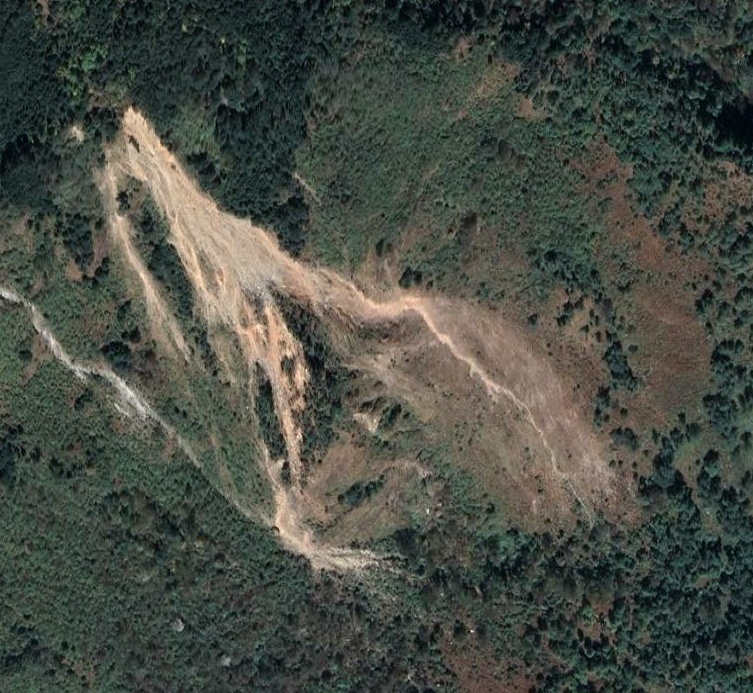slope: (91, 101, 597, 588)
